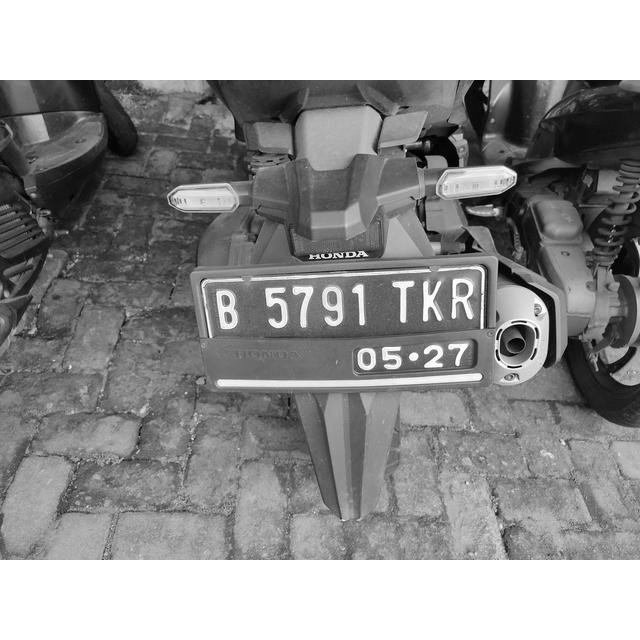license: (210, 273, 478, 372)
